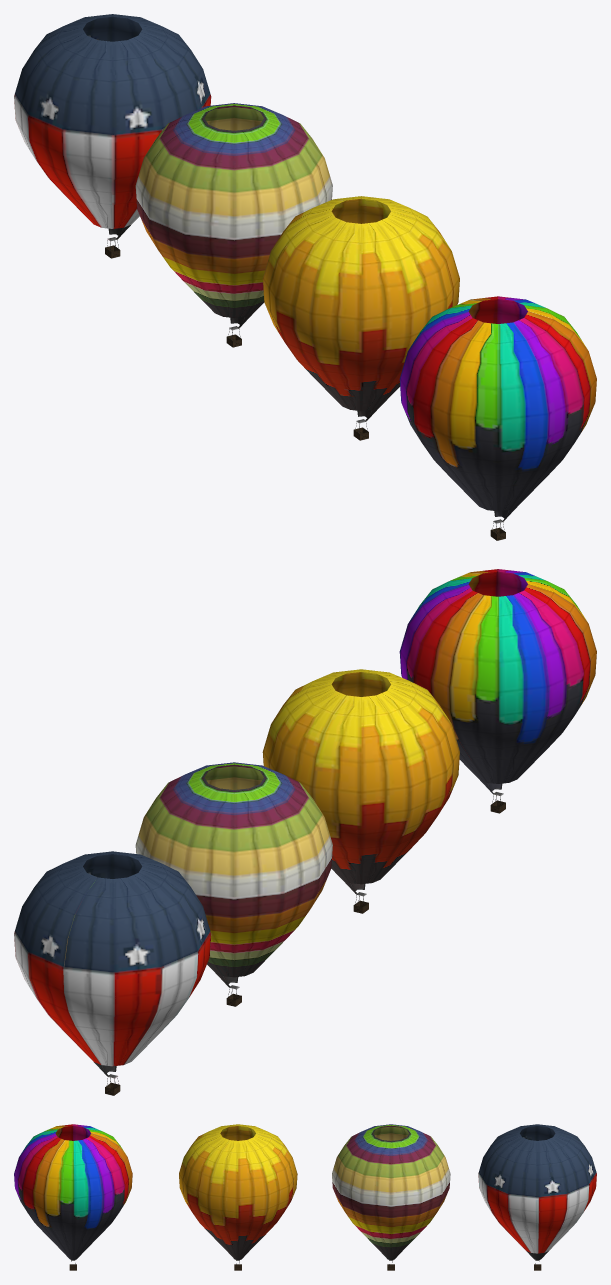
Rendered from flyballoon.fbx.
The picture shows the model from 3 angles, top to bottom: view 1: azimuth 30°, elevation 25°; view 2: azimuth 150°, elevation 25°; view 3: azimuth 270°, elevation 25°; orthographic projection. The views are drawn at different scales.
Parts seen in each view (by area): view 1: flybloon4, flybloon1, flybloon2, flybloon3; view 2: flybloon3, flybloon4, flybloon1, flybloon2; view 3: flybloon3, flybloon4, flybloon1, flybloon2.
Part boxes in pixels (x1,y1,x2,y2): flybloon4: [399, 296, 596, 540]; flybloon1: [262, 196, 459, 440]; flybloon2: [135, 103, 332, 347]; flybloon3: [14, 14, 211, 258]; flybloon3: [14, 851, 211, 1095]; flybloon4: [399, 569, 596, 813]; flybloon1: [262, 669, 459, 913]; flybloon2: [135, 762, 332, 1006]; flybloon3: [478, 1124, 596, 1270]; flybloon4: [14, 1124, 132, 1270]; flybloon1: [179, 1124, 297, 1270]; flybloon2: [332, 1124, 450, 1270].
Size of the model in its own units: 25.51 by 32.24 by 125.
1 material, 1 textured.
